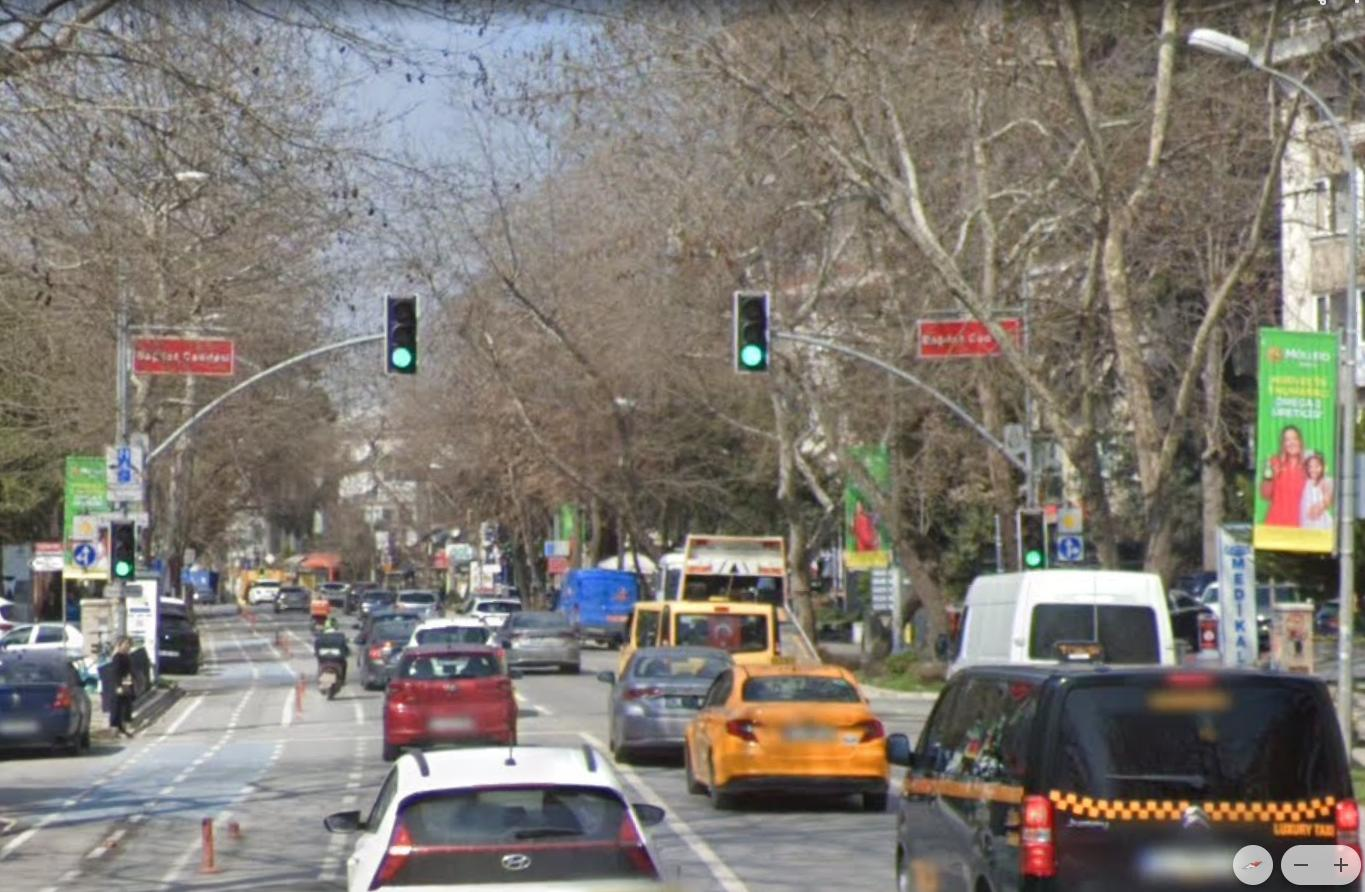greenlight: (734, 294, 773, 369), (385, 291, 416, 373), (1020, 508, 1046, 566), (112, 520, 132, 574)
